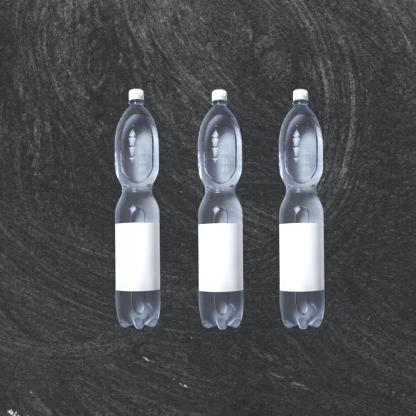bottle: (192, 88, 248, 338), (273, 89, 330, 331), (113, 87, 165, 331)
